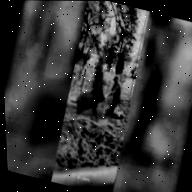boar: (67, 66, 116, 123)
